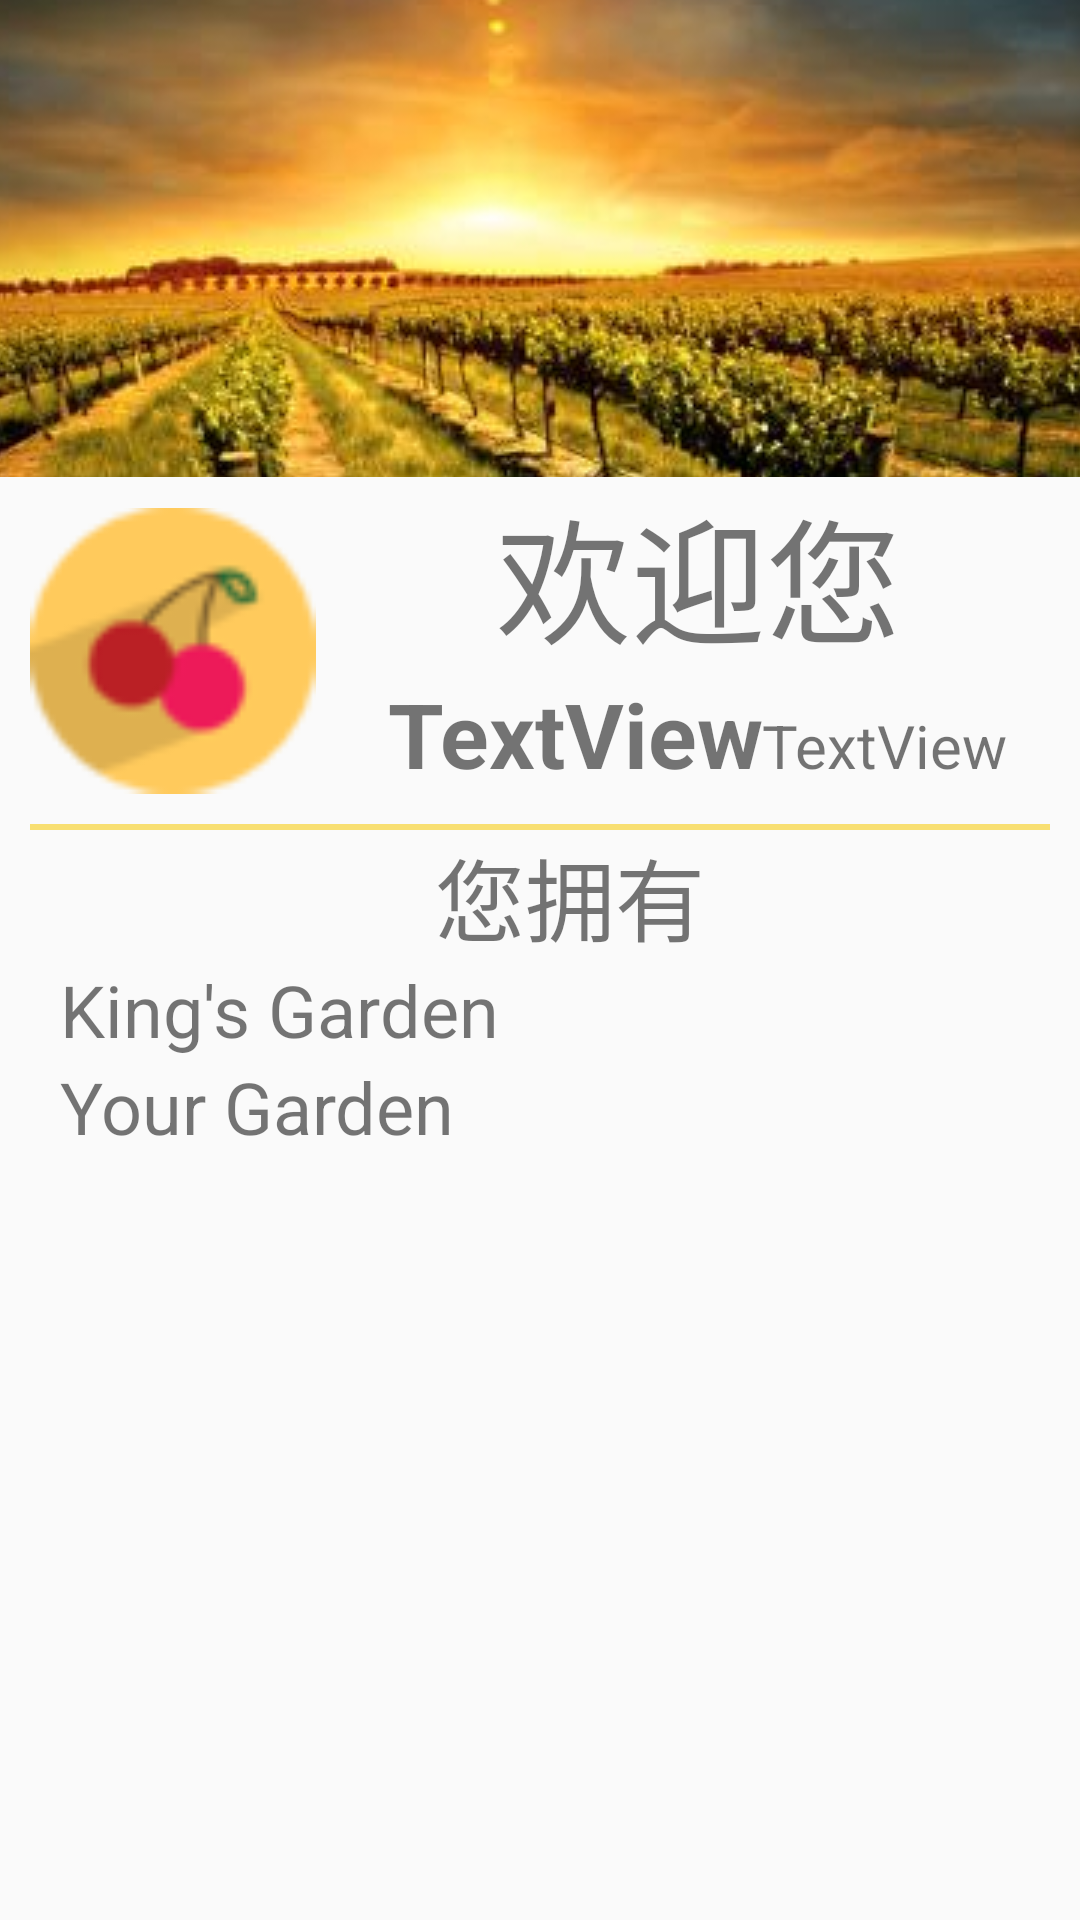

Icons on this 1080px×1920px Android screen, each with the point to tap as point (x, y):
cherry: point (173, 651)
